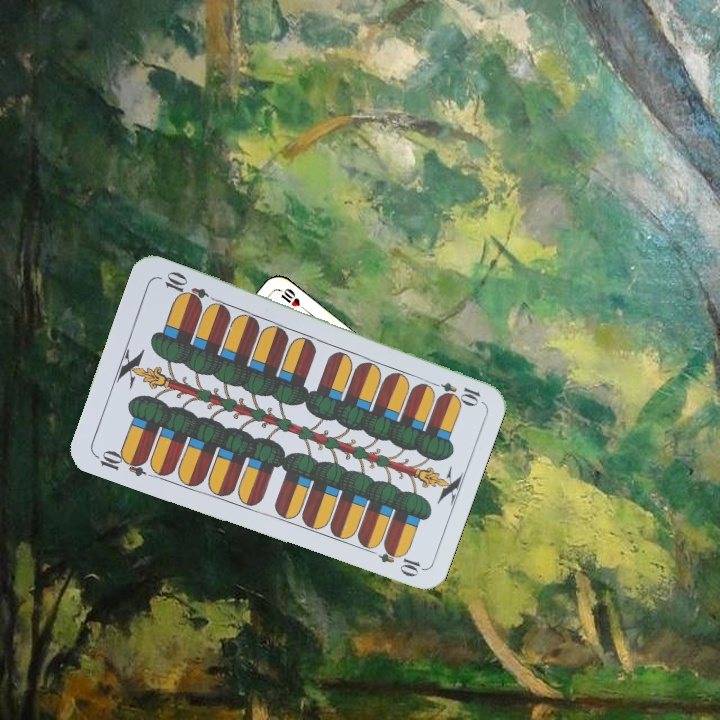E10: (91, 446, 150, 479), (424, 377, 483, 406)
